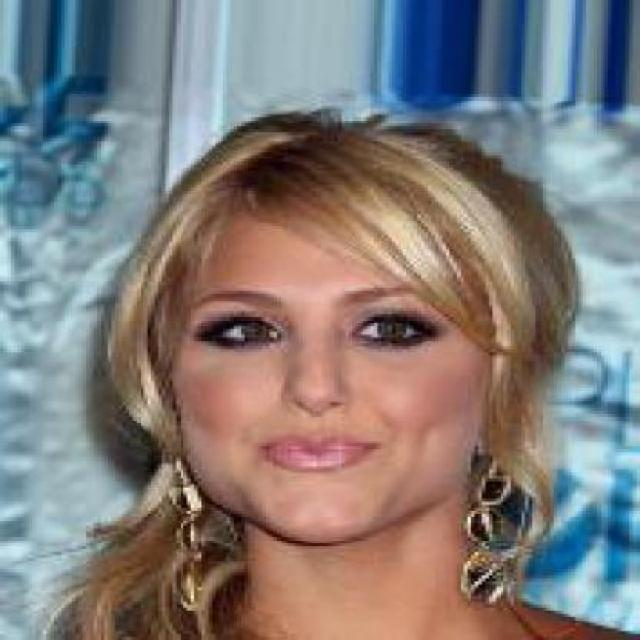closed-mouth: (256, 430, 372, 470)
